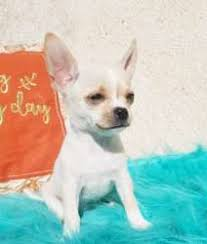chihuahua: (20, 24, 162, 244)
